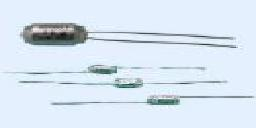Electrolytic-Capacitor: (18, 22, 246, 52), (48, 92, 256, 112), (12, 63, 212, 78), (101, 78, 165, 91)
